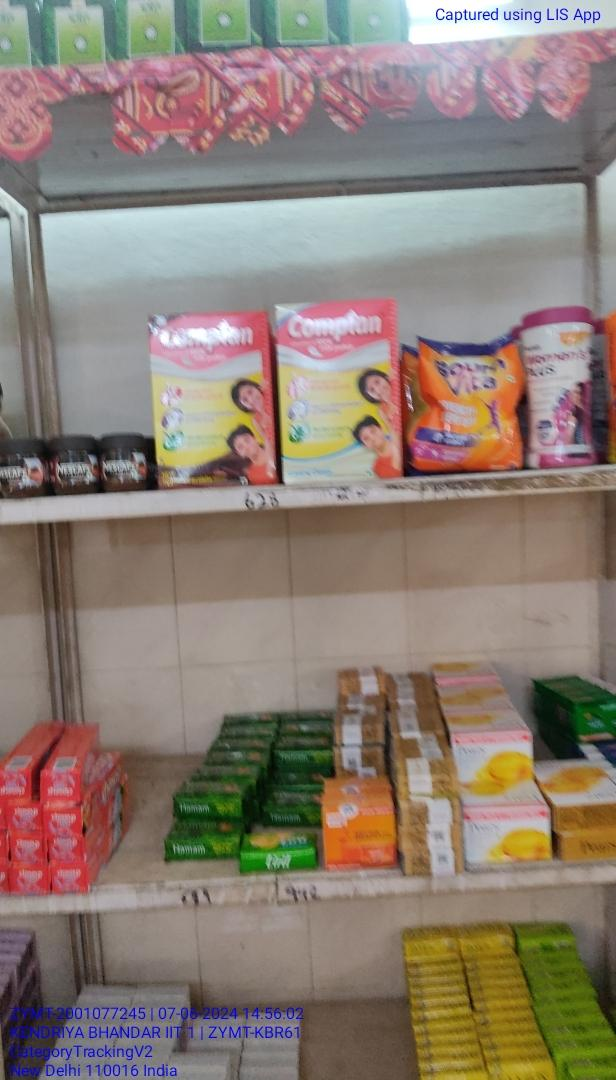BOURN_VITA_500_G_POUCH: (418, 335, 522, 471)
COMPLAN_CHOCOLATE_500_GMS_PACK: (152, 312, 271, 484)
COMPLAN_CREAMY_CLASSIC_500_G_PACK: (280, 305, 399, 479)
